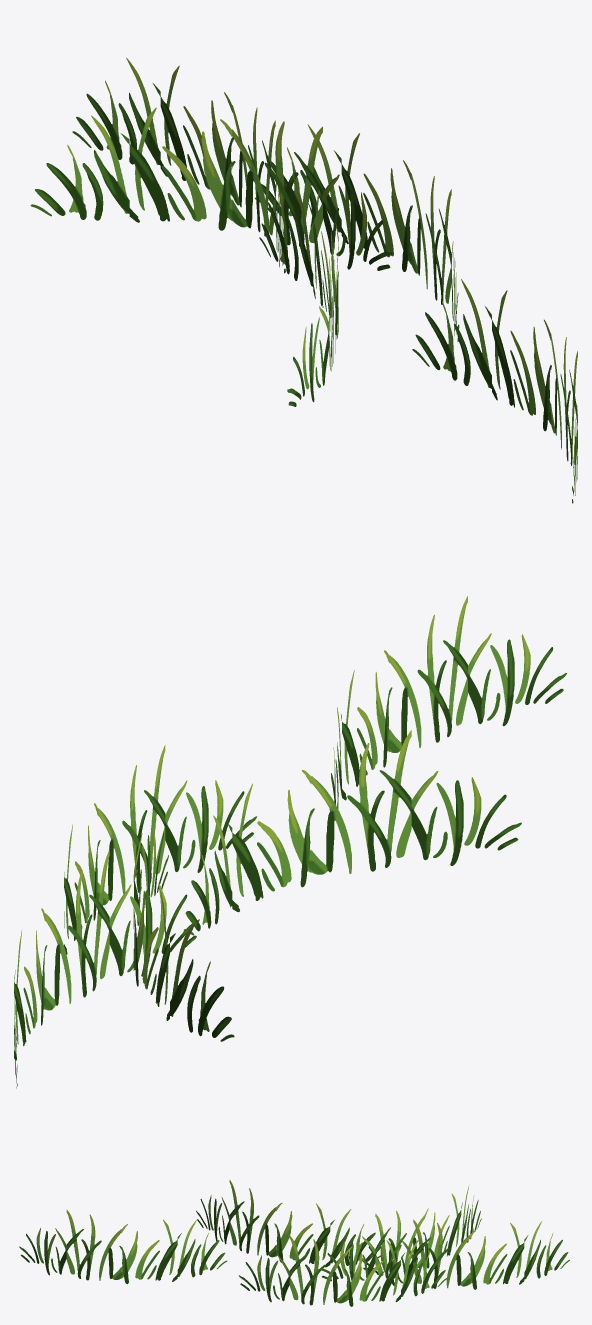
File: pasto_bajo.fbx
3 renders of one model, top to bottom at view 1: azimuth 30°, elevation 25°; view 2: azimuth 150°, elevation 25°; view 3: azimuth 270°, elevation 25°, orthographic. The views are drawn at different scales.
Parts seen in each view (by area): view 1: pasto2; view 2: pasto2; view 3: pasto2.
Part boxes in pixels (<box>): pasto2: <box>30,57,577,503</box>; pasto2: <box>14,596,566,1088</box>; pasto2: <box>19,1180,569,1306</box>.
Bounding box in the file's own units: 350 × 198 × 1167.
